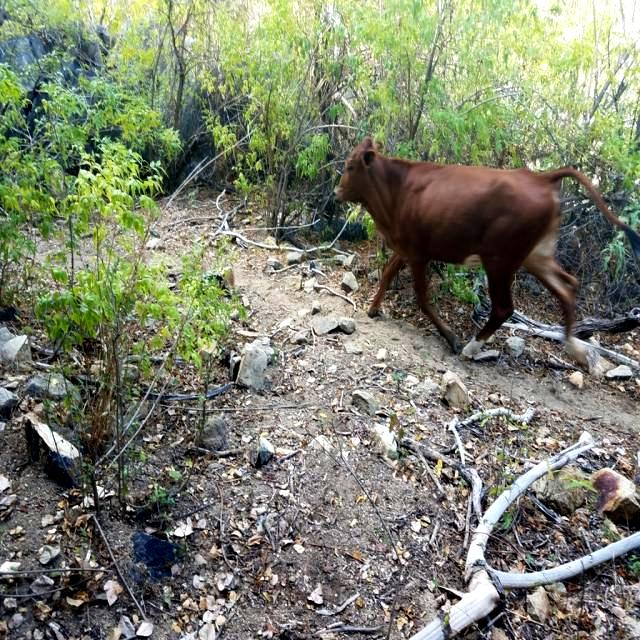COW: (335, 139, 640, 356)
